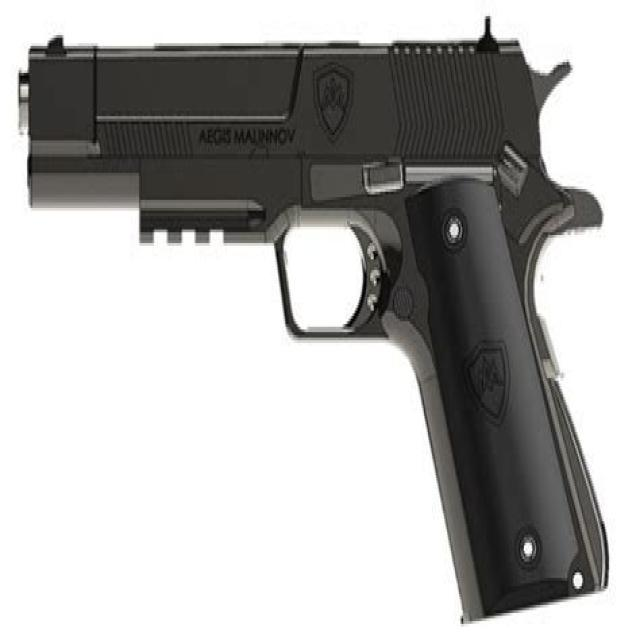Pistol: (10, 21, 628, 640)
